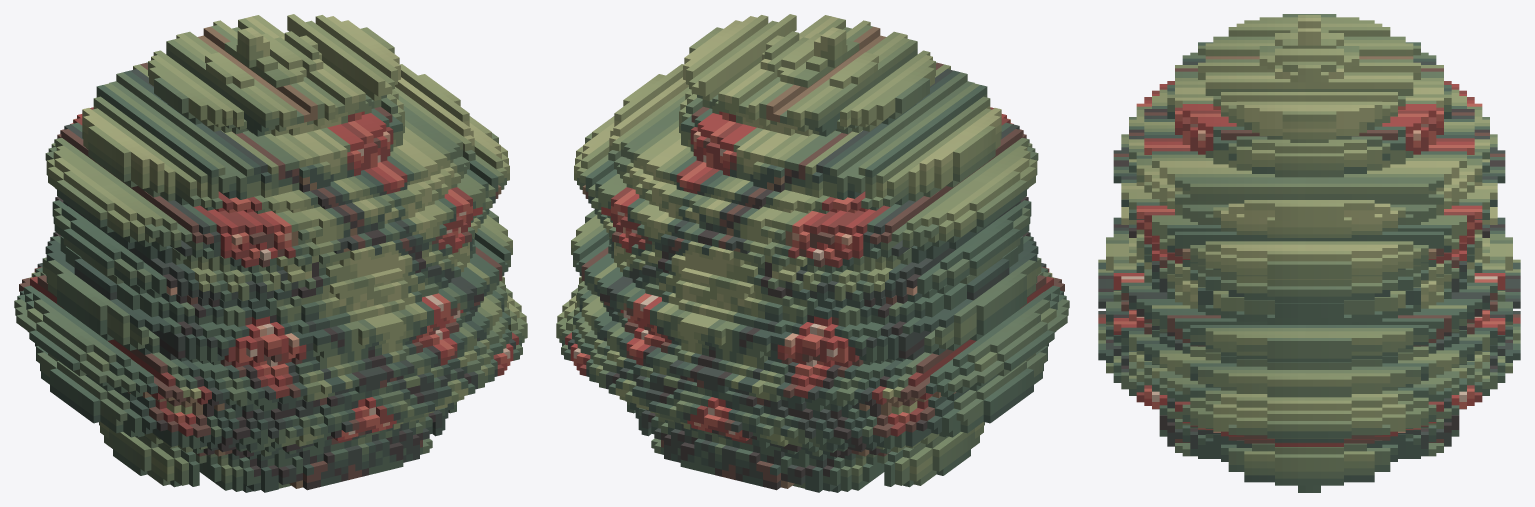
File: pixel_food.glb
The picture shows the model from 3 angles, left to right: view 1: azimuth 30°, elevation 25°; view 2: azimuth 150°, elevation 25°; view 3: azimuth 270°, elevation 25°; orthographic projection. The views are drawn at different scales.
Parts seen in each view (by area): view 1: VoxelObject; view 2: VoxelObject; view 3: VoxelObject.
Part boxes in pixels (<box>): VoxelObject: <box>14,14,527,492</box>; VoxelObject: <box>556,14,1069,492</box>; VoxelObject: <box>1098,14,1520,492</box>.
Size of the model in its own units: 1.4 by 1.4 by 1.2.
